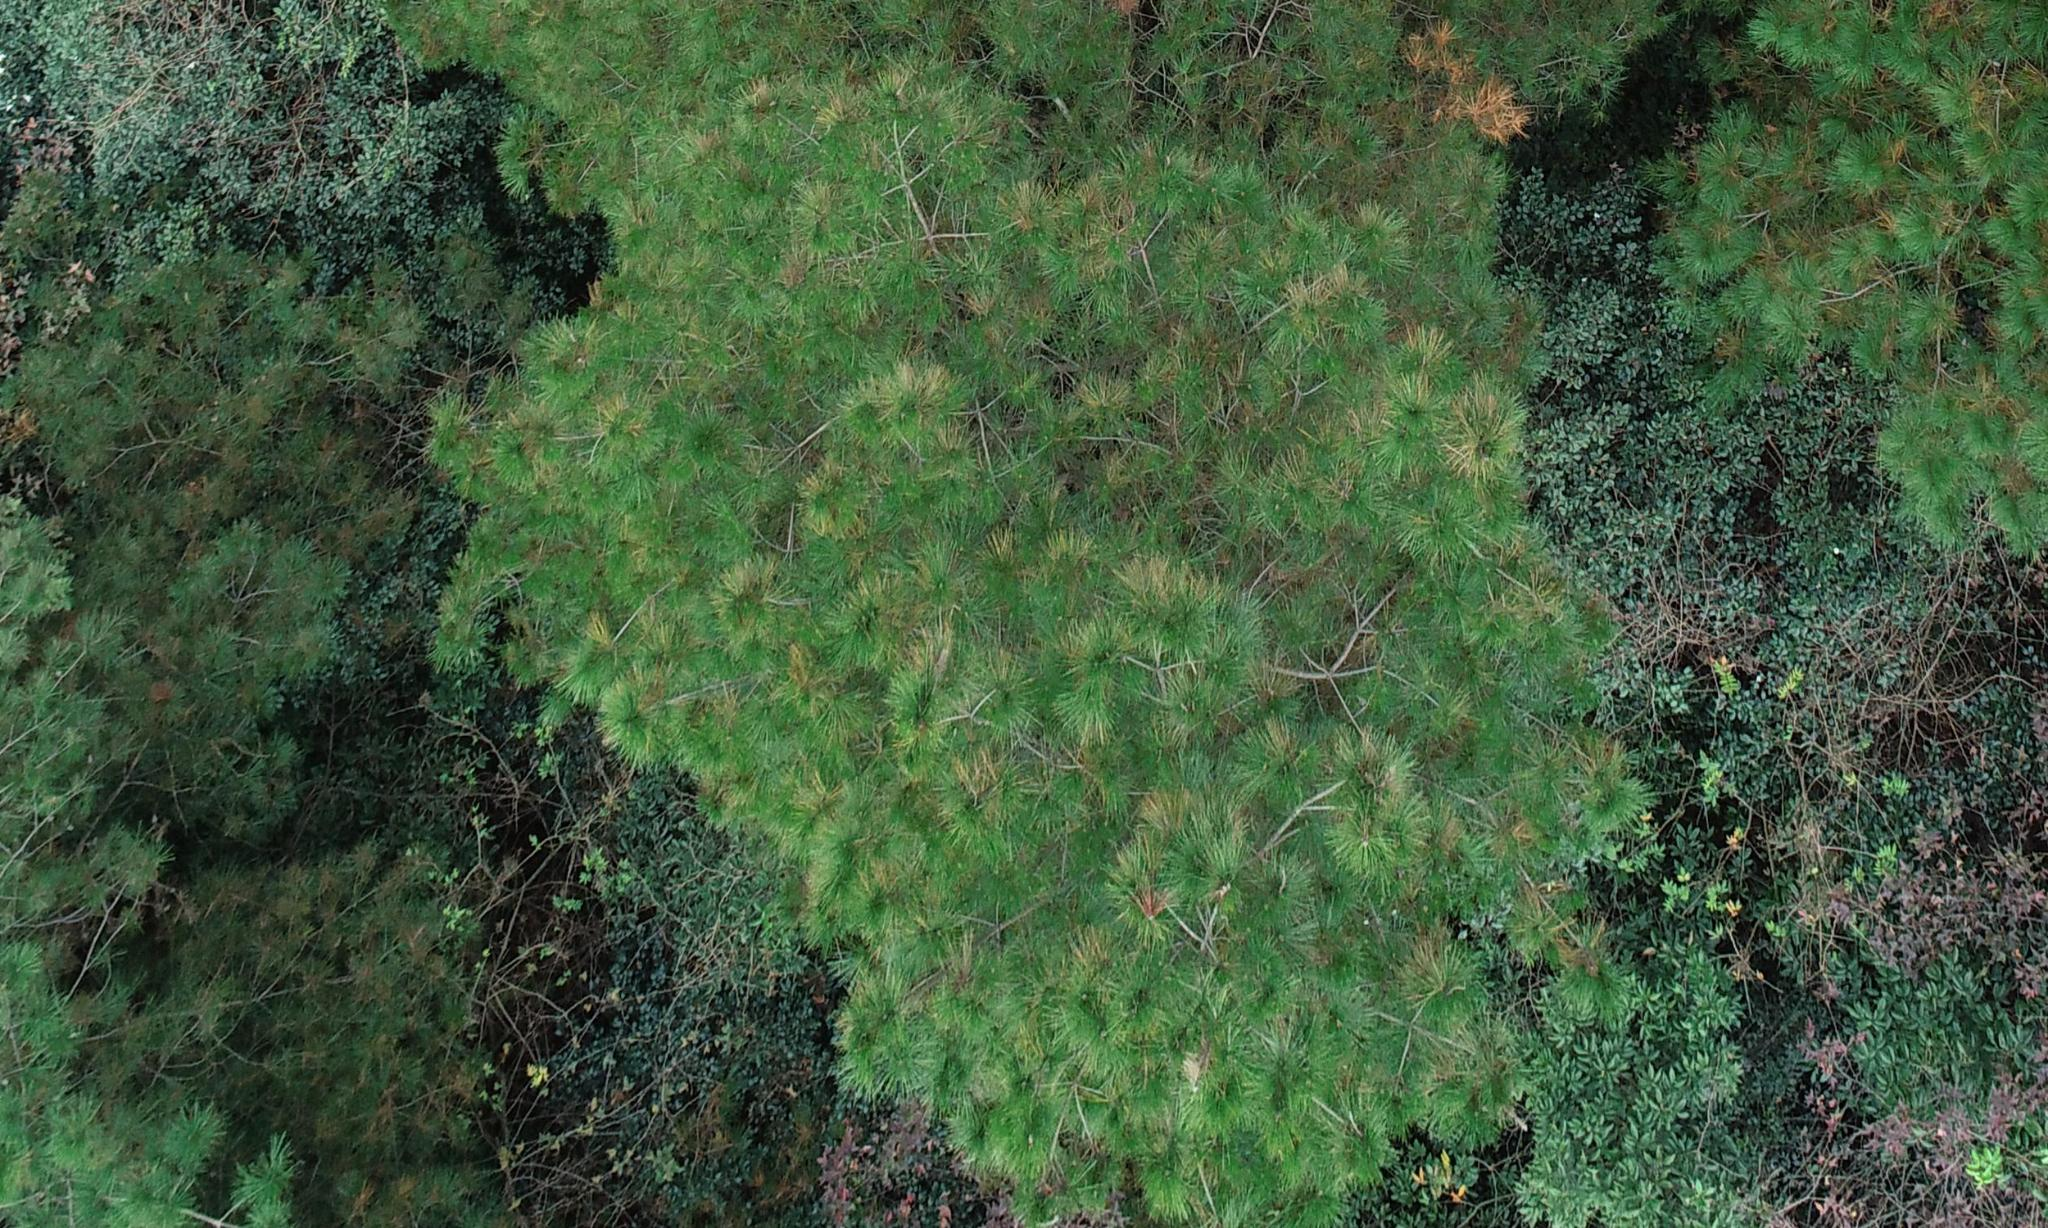light: (458, 16, 1658, 1178)
